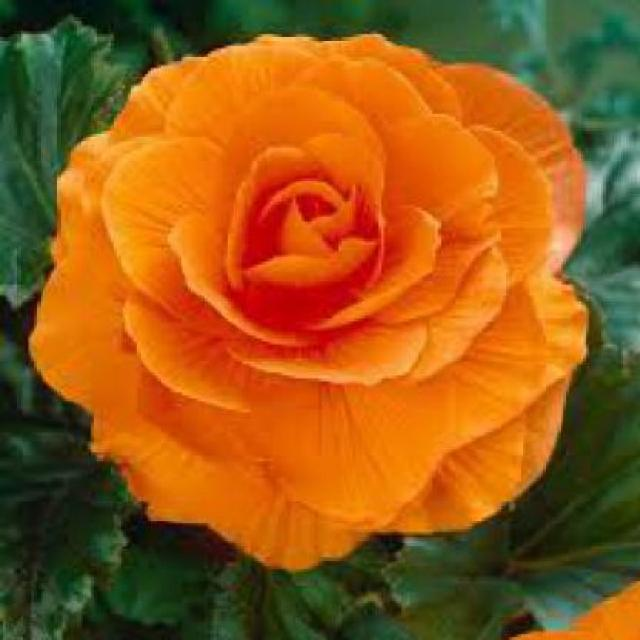Flower: (29, 31, 592, 569)
